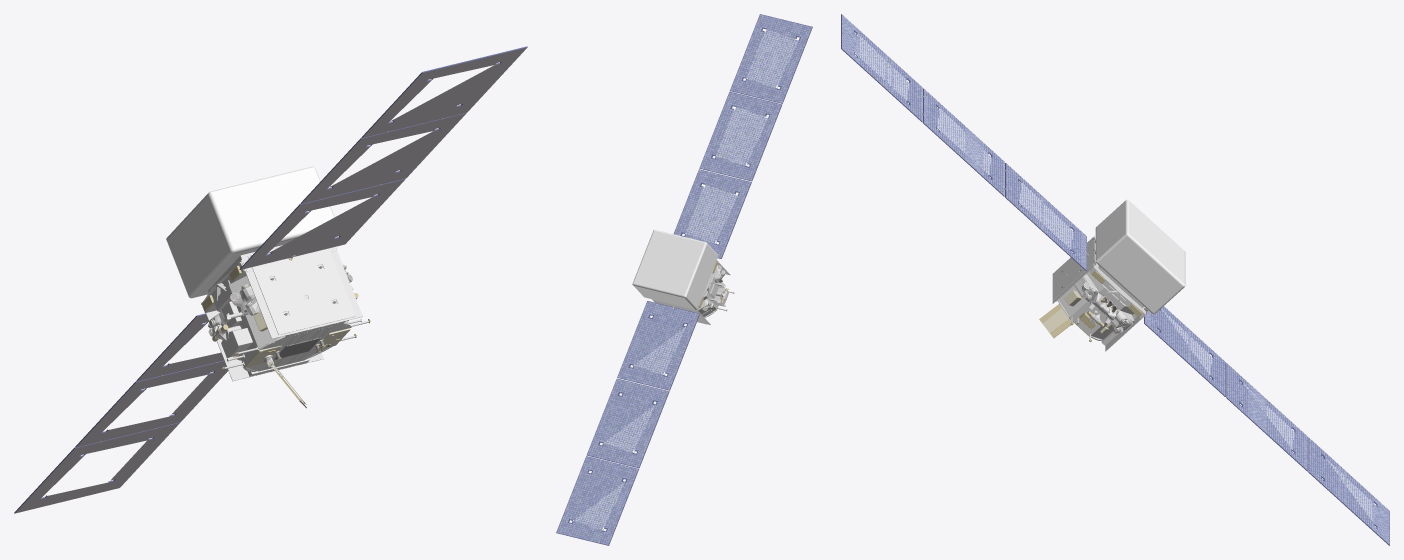
File: fermi.glb
The picture shows the model from 3 angles, left to right: view 1: azimuth 30°, elevation 25°; view 2: azimuth 150°, elevation 25°; view 3: azimuth 270°, elevation 25°; orthographic projection. The views are drawn at different scales.
Parts seen in each view (by area): view 1: Layer_1, Layer_0, Layer_2; view 2: Layer_1, Layer_2, Layer_0; view 3: Layer_1, Layer_2, Layer_0.
Part boxes in pixels (x1,y1,x2,y2): Layer_1: (14, 46, 527, 513); Layer_0: (201, 245, 370, 408); Layer_2: (166, 166, 334, 298); Layer_1: (556, 14, 812, 545); Layer_2: (632, 229, 718, 309); Layer_0: (652, 260, 734, 324); Layer_1: (841, 14, 1389, 545); Layer_2: (1095, 199, 1185, 314); Layer_0: (1039, 236, 1148, 351).
Bounding box in the file's own units: 13.72 × 70.78 × 70.78.
